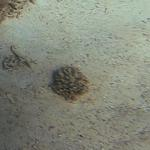dead: (5, 1, 143, 148)
